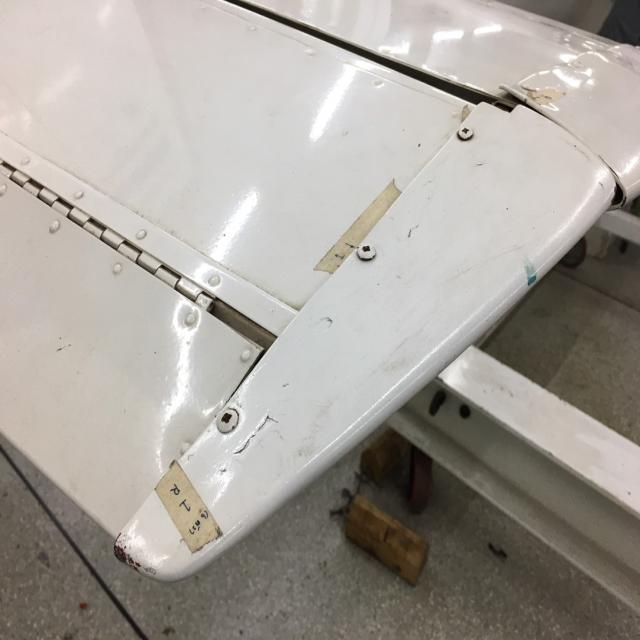Crack: (206, 384, 288, 486)
